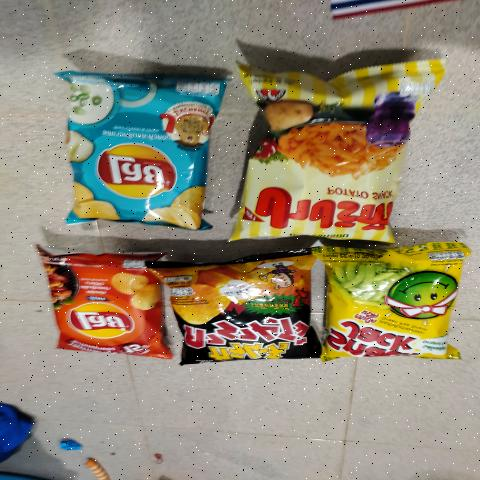karamujo: (190, 264, 299, 361)
lay_blue: (75, 81, 203, 216)
paprika: (243, 78, 394, 238)
snack_jack: (338, 259, 451, 356)
